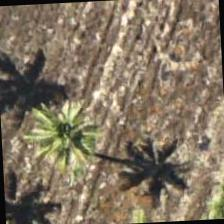Kelapa_Sawit: (12, 92, 107, 188)
